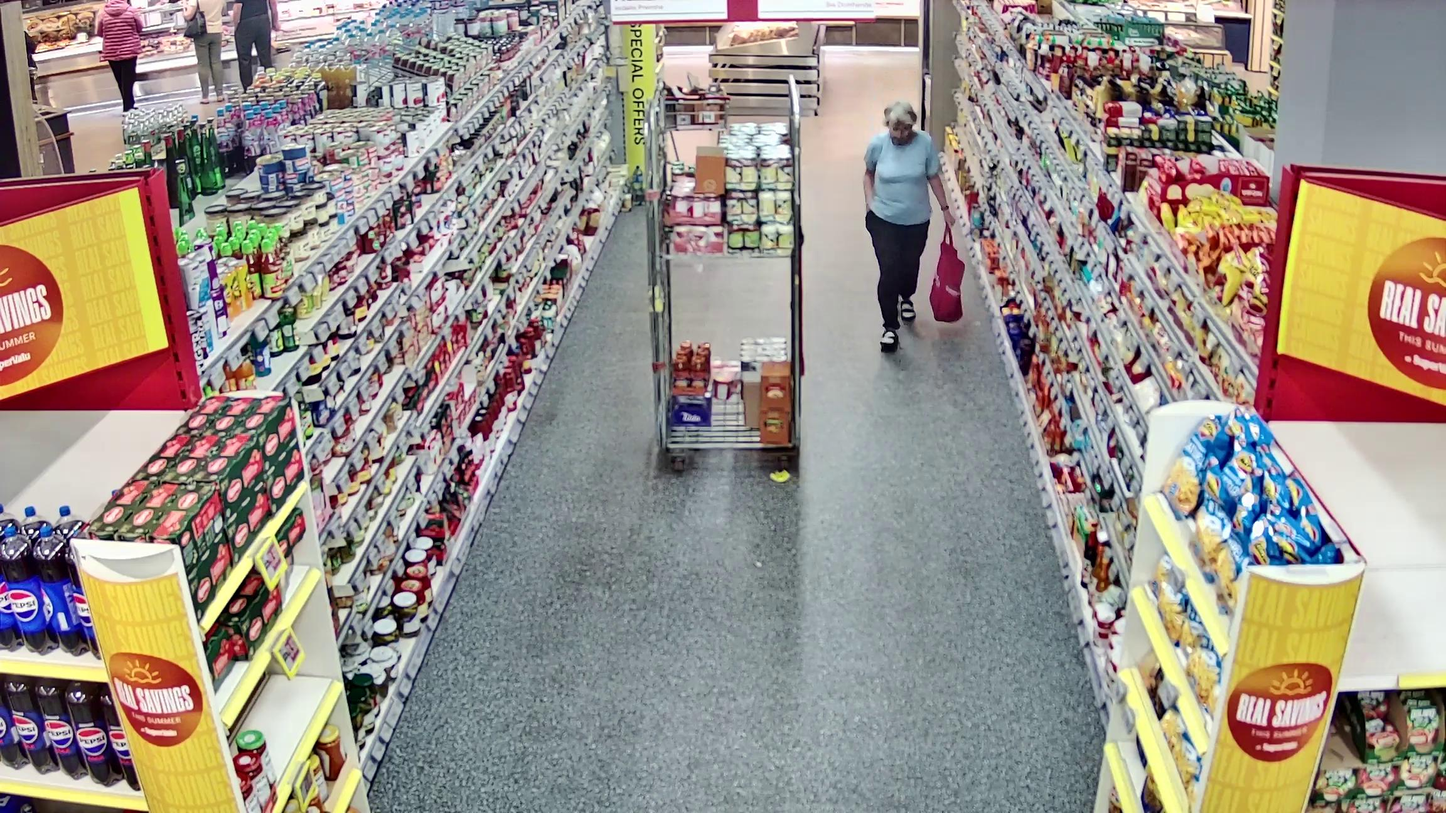filled-shopping-bags: (931, 226, 964, 321)
person: (862, 102, 955, 350)
person-with-filled-shopping-bag-s-: (861, 99, 966, 349)
